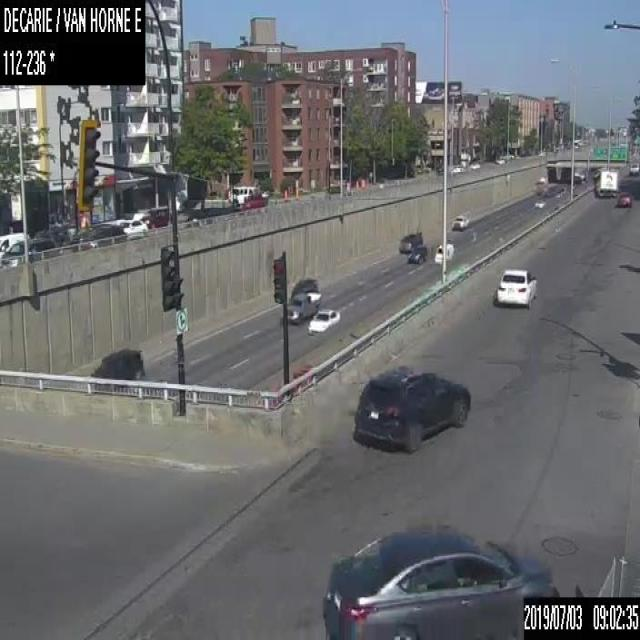construction: (354, 178, 358, 190), (283, 188, 286, 199), (361, 178, 364, 189), (295, 188, 298, 197)
vehicle: (322, 521, 560, 639), (354, 365, 472, 451), (87, 346, 144, 378), (0, 238, 58, 267), (496, 267, 538, 305), (75, 226, 125, 252), (286, 294, 318, 323), (307, 308, 339, 333), (291, 275, 320, 301), (227, 185, 268, 202), (0, 232, 28, 255), (594, 167, 616, 196), (140, 207, 171, 226), (116, 218, 148, 236), (398, 232, 422, 253), (433, 243, 453, 264), (407, 245, 426, 264), (451, 213, 469, 230), (616, 191, 630, 206), (628, 162, 639, 174), (533, 197, 545, 207)
